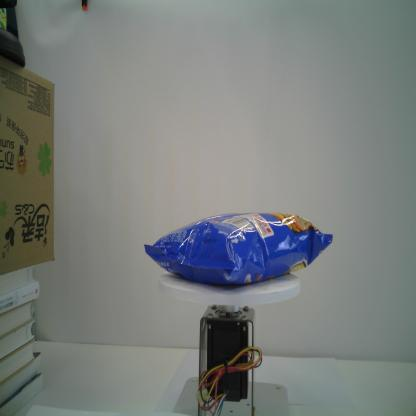Puffed Food: (142, 211, 334, 284)
